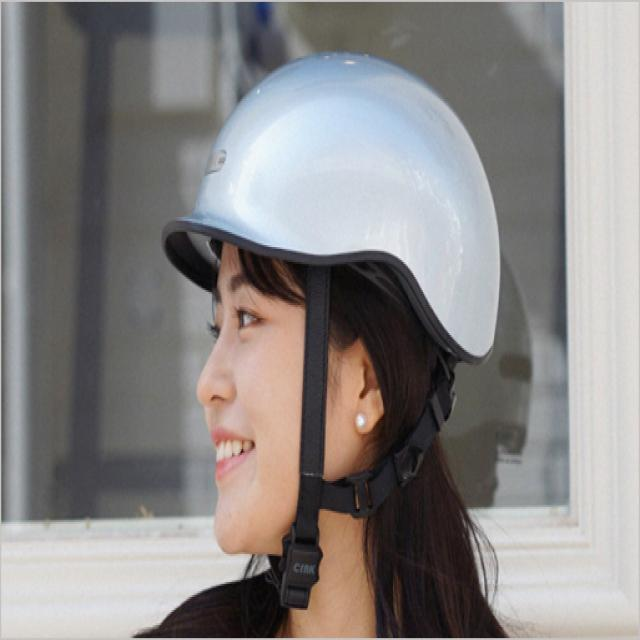Helmet: (159, 48, 504, 565)
